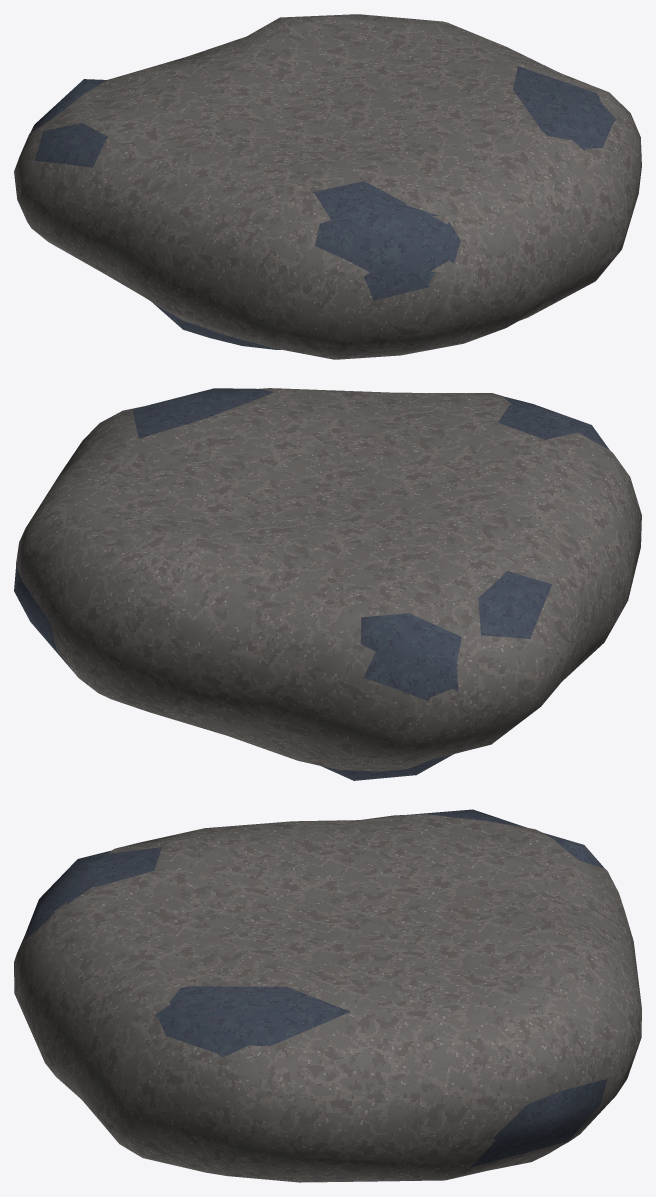
File: InteractiveIsland1.fbx
3 views of the same model, one above another, from view 1: azimuth 30°, elevation 25°; view 2: azimuth 150°, elevation 25°; view 3: azimuth 270°, elevation 25° (orthographic). The views are drawn at different scales.
Visible parts, largest first — view 1: InteractiveIsland1; view 2: InteractiveIsland1; view 3: InteractiveIsland1.
Part boxes in pixels (<box>): InteractiveIsland1: <box>14,14,641,359</box>; InteractiveIsland1: <box>14,388,641,780</box>; InteractiveIsland1: <box>14,809,641,1182</box>.
Size of the model in its own units: 838 by 376 by 798.
